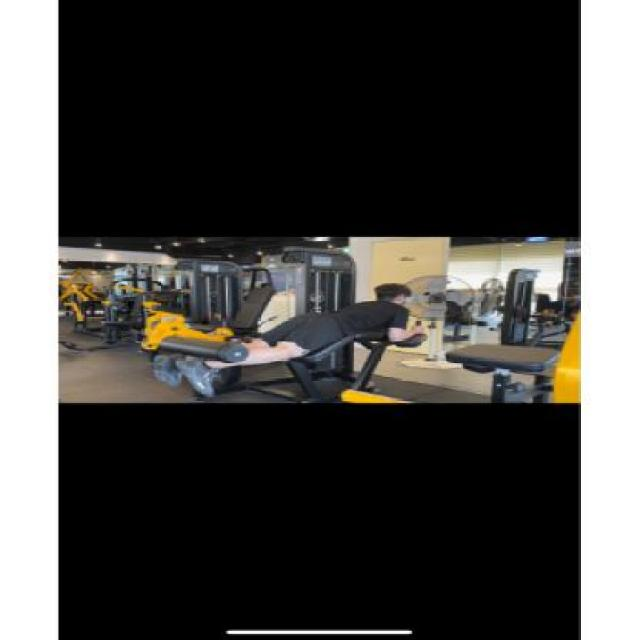reg curl machine: (134, 243, 440, 408)
